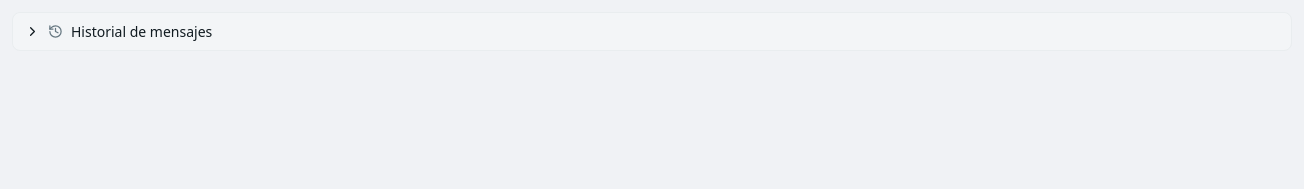
HistorySection › aviso de que va despacio a propósito, con el nombre de quien bloquea
Later steps or results of the test are not shown.
Click the button "Historial de mensajes": (142, 32) [13,13,1291,50]
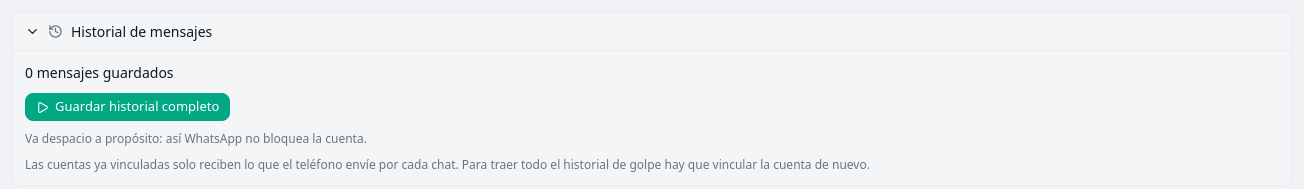
Check: the text with test id "history-slow" reads "Va despacio a propósito: así WhatsApp no bloquea la cuenta.", box [25,130,367,147]
